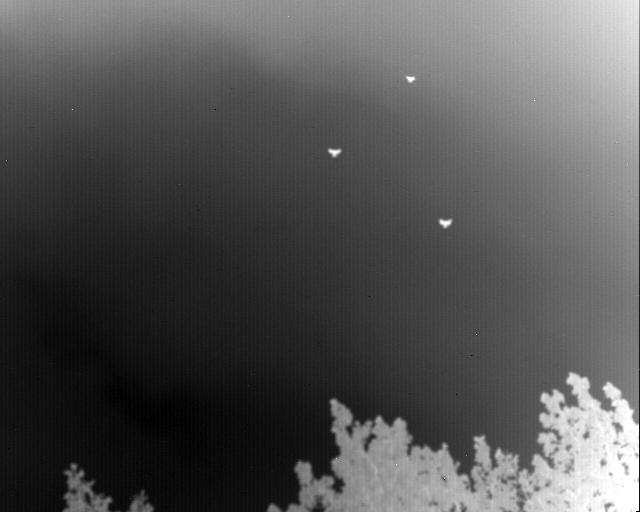plane: (327, 147, 342, 158), (438, 217, 453, 228), (406, 75, 415, 83)
